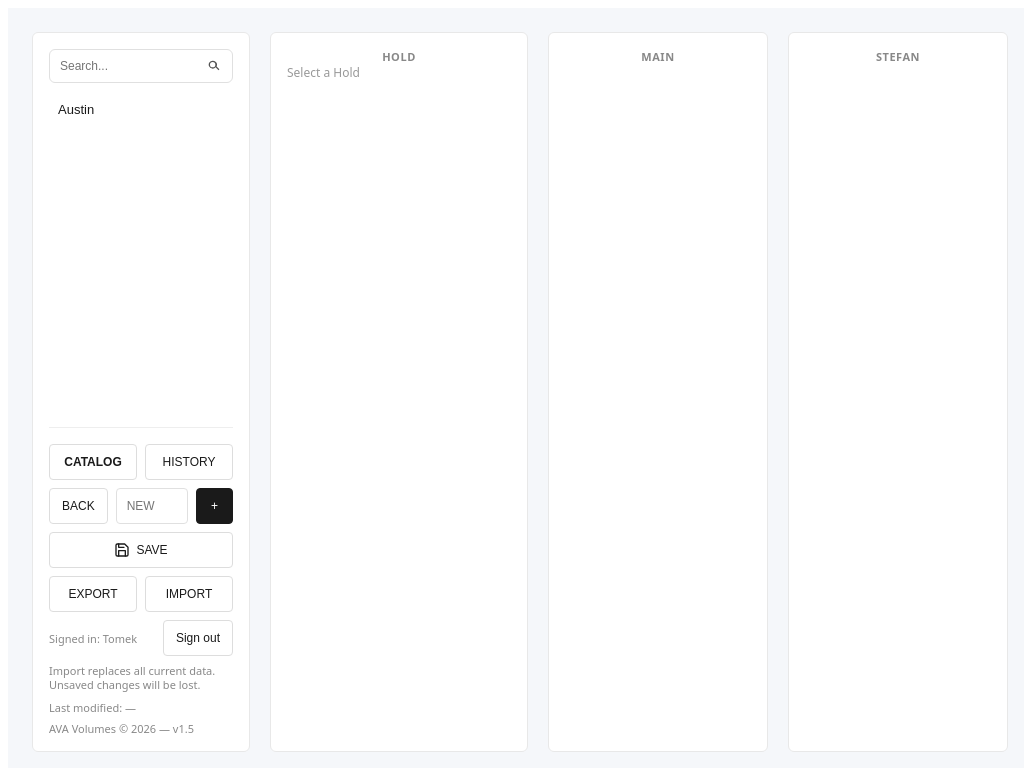
Test: App auth/session integration (Phase 2C) › locks admin/editing again after logout
Expected: the text "MAIN" is shown, [641, 49, 675, 64]
Expected: the button "EXPORT" is shown, [49, 576, 137, 612]
Click the button "Sign out" at coordinates (198, 638), box [163, 620, 233, 656]
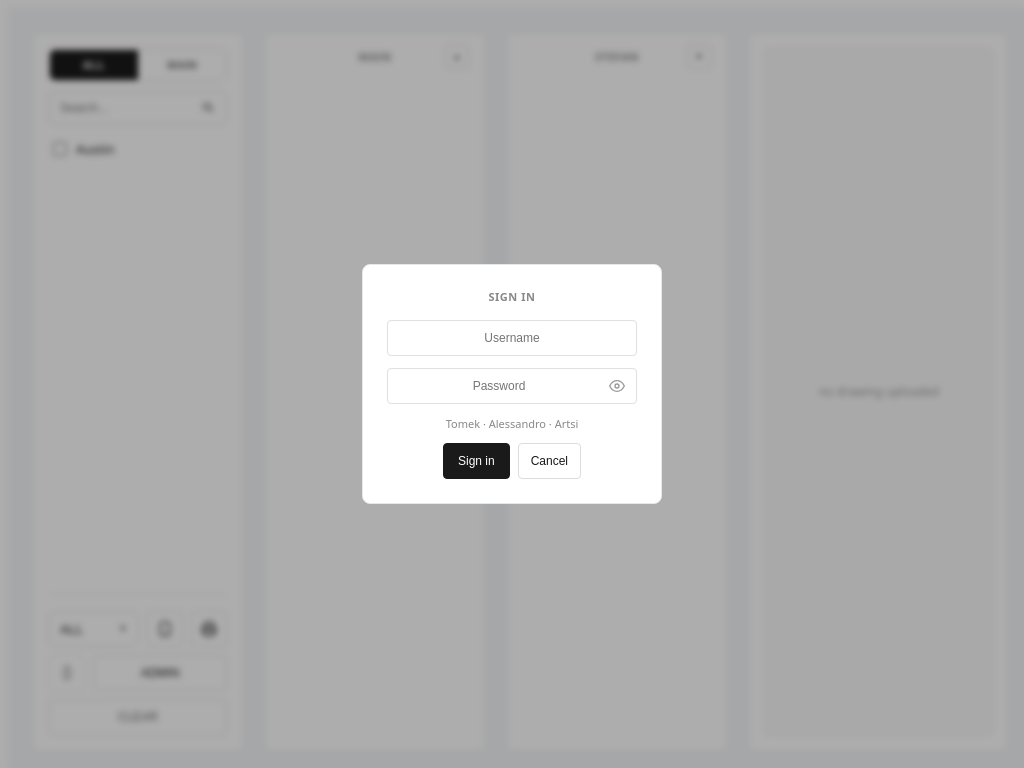
Expected: the button "ADMIN" is shown, [93, 655, 227, 691]
Expected: the button "EXPORT" is gone
